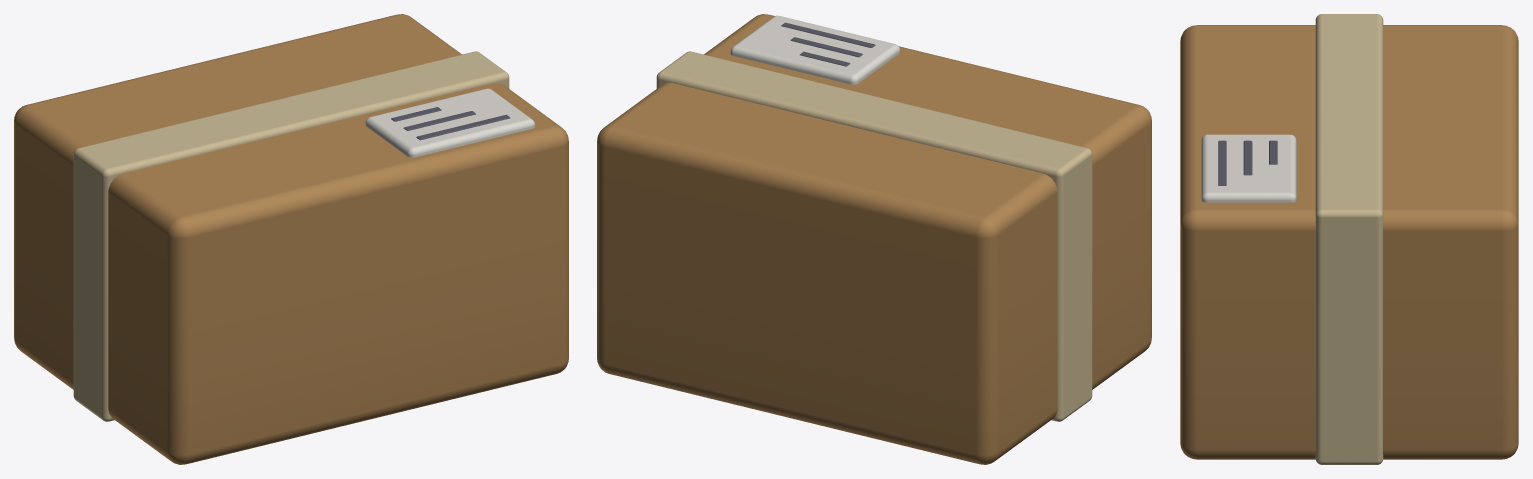
The model's file is item_ic_package.glb.
3 views of the same model, side by side, from view 1: azimuth 30°, elevation 25°; view 2: azimuth 150°, elevation 25°; view 3: azimuth 270°, elevation 25° (orthographic).
Parts seen in each view (by area): view 1: item_ic_package_main; view 2: item_ic_package_main; view 3: item_ic_package_main.
Boxes of the visible parts, x1,y1,x2,y2 form: item_ic_package_main: [14, 14, 568, 464]; item_ic_package_main: [597, 14, 1151, 464]; item_ic_package_main: [1180, 14, 1518, 464].
Bounding box in the file's own units: 0.224 × 0.1345 × 0.16.
